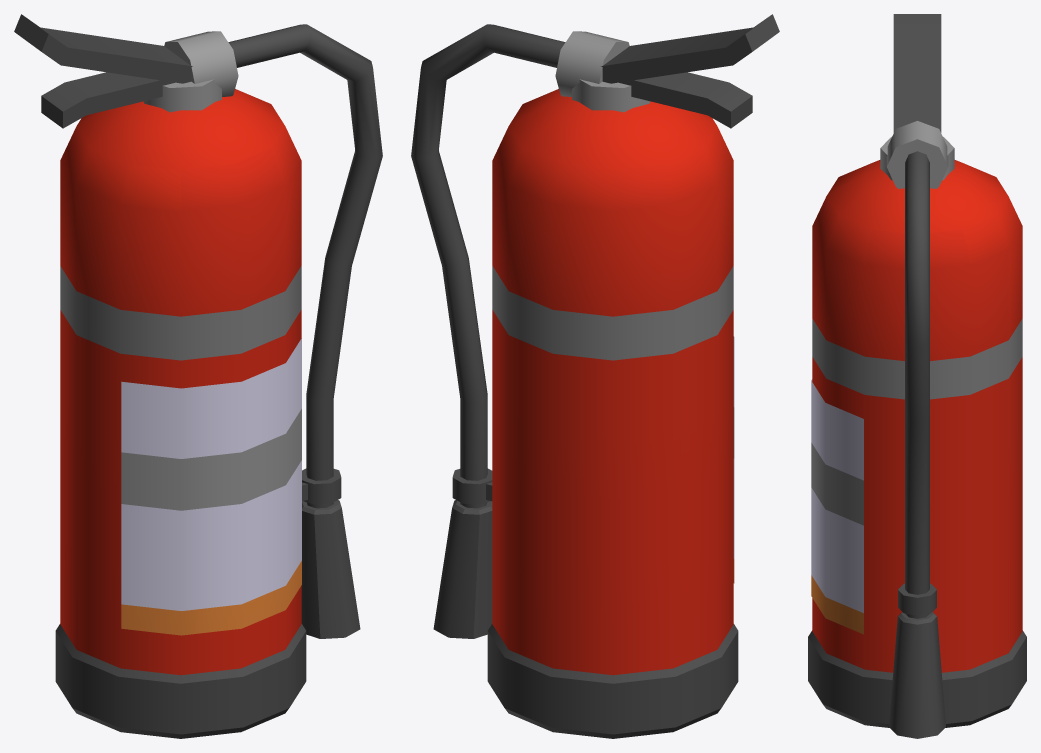
The model's file is fire_extinguisher.fbx.
3 views of the same model, side by side, from view 1: azimuth 30°, elevation 25°; view 2: azimuth 150°, elevation 25°; view 3: azimuth 270°, elevation 25° (orthographic). The views are drawn at different scales.
Visible parts, largest first — view 1: fire_extinguisher; view 2: fire_extinguisher; view 3: fire_extinguisher.
Part boxes in pixels (bbox=[...]): fire_extinguisher: bbox=[14, 14, 382, 738]; fire_extinguisher: bbox=[411, 14, 779, 738]; fire_extinguisher: bbox=[808, 14, 1026, 738].
Bounding box in the file's own units: 16.47 × 31.12 × 10.11.
